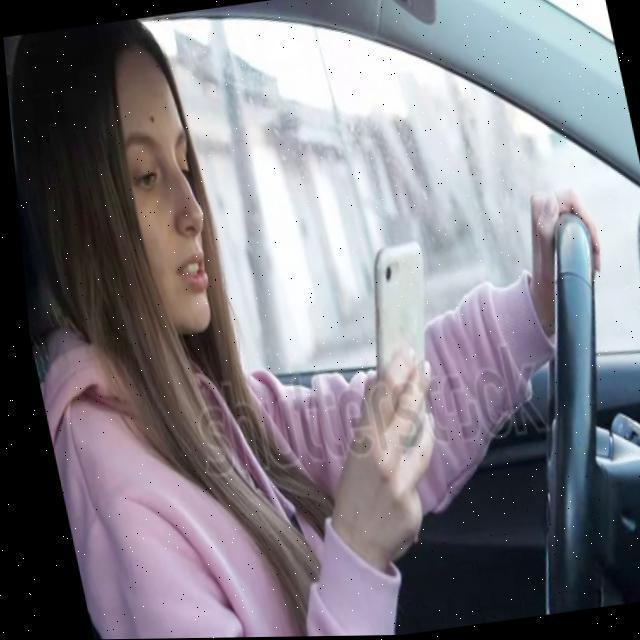PhoneCall: (339, 244, 454, 446)
